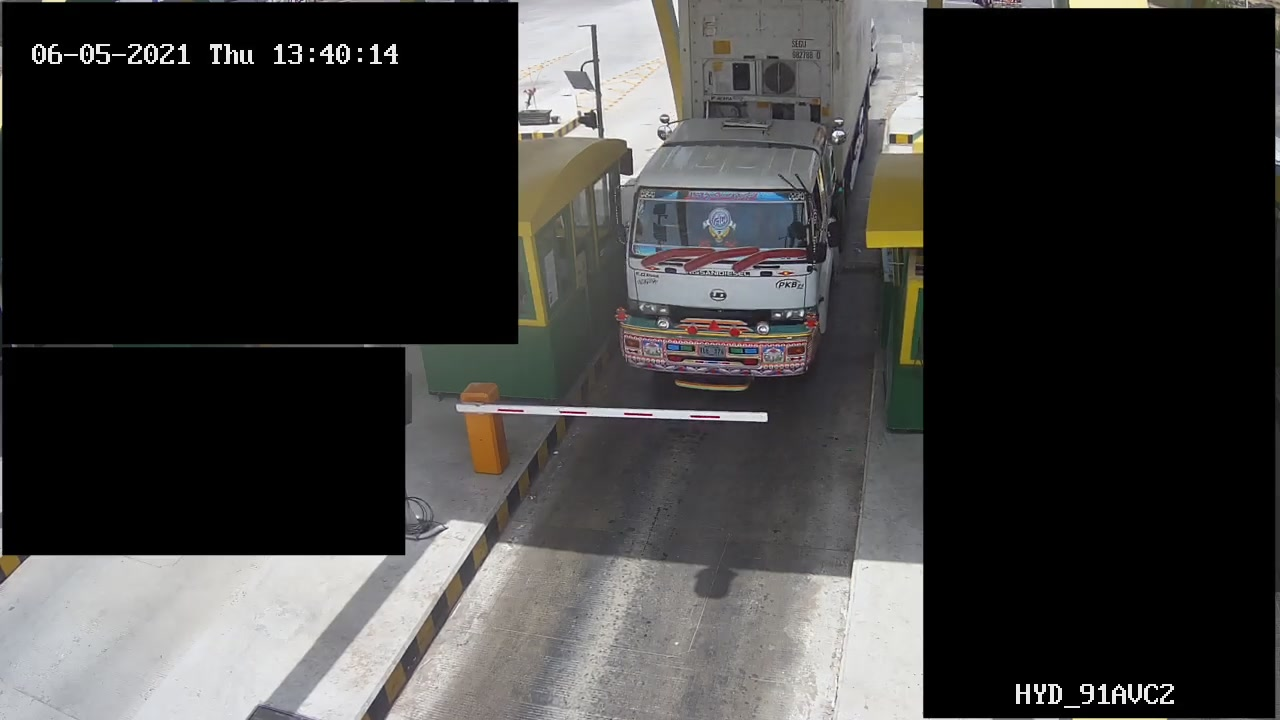F6: (612, 1, 880, 385)
